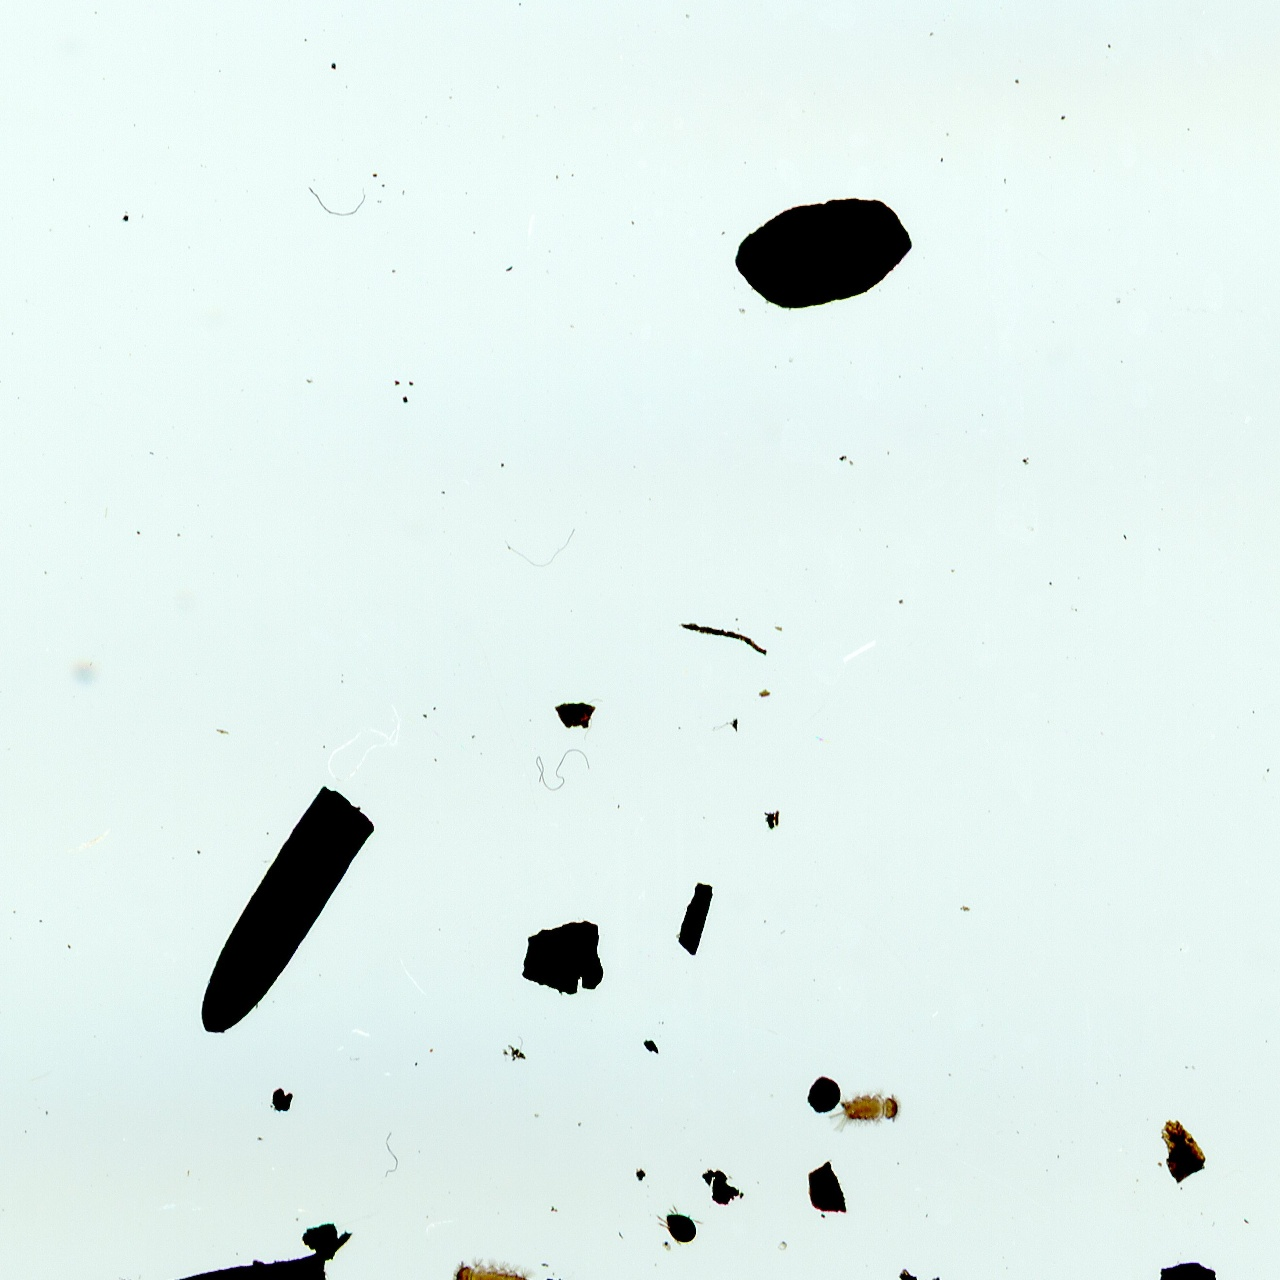arthropod: (829, 1087, 905, 1136), (651, 1197, 709, 1250), (449, 1257, 550, 1280)
